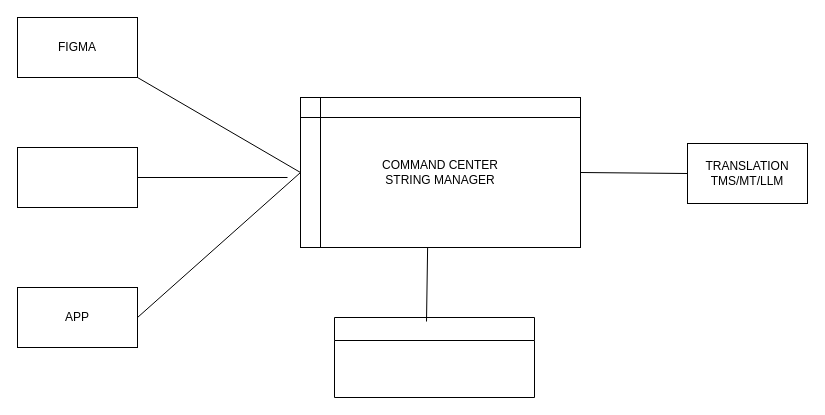
Image size: 825x415. Some labels were removed from this diagram. Each missing label, with the centre of its shape:
REPO: the point at 77,177
Strings DB: the point at 434,357
